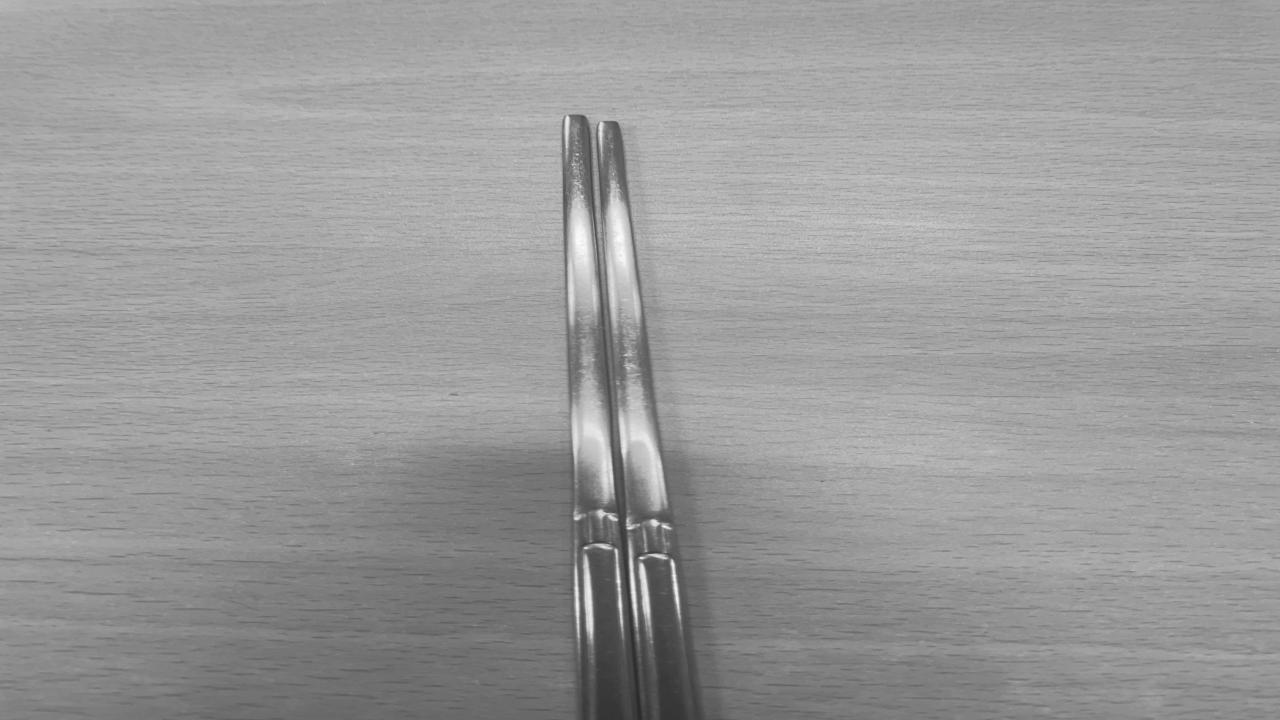chopstick: (563, 116, 698, 720)
